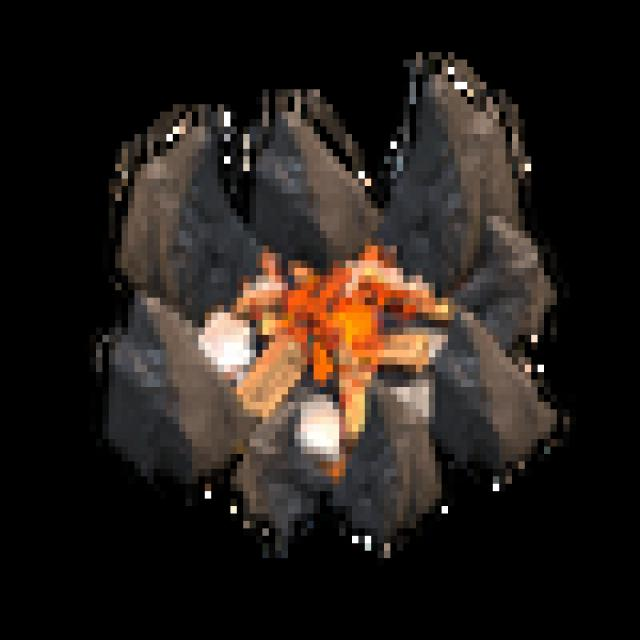army_camp: (70, 41, 590, 576)
